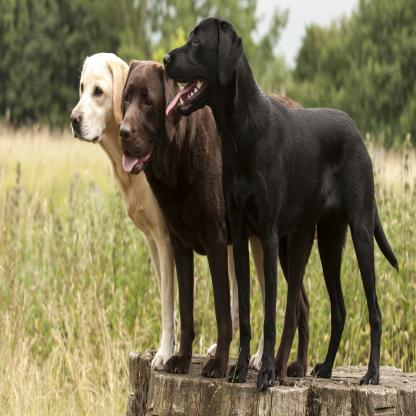dog: (161, 15, 399, 398), (120, 57, 233, 384), (71, 53, 177, 371)
